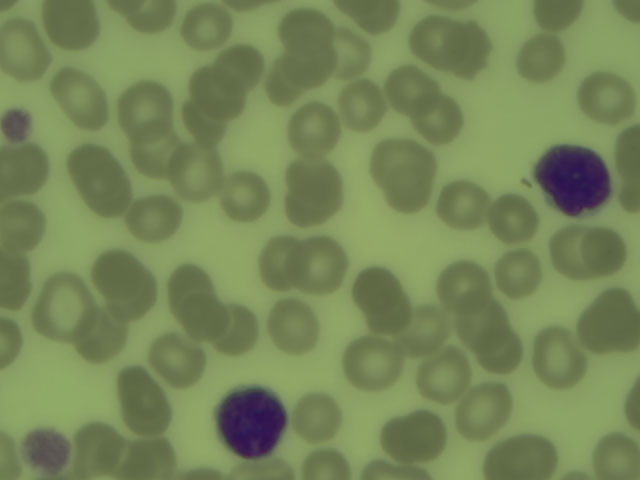Platelets: (1, 108, 39, 141)
RBC: (282, 102, 344, 162), (574, 294, 638, 351), (480, 435, 560, 480), (54, 70, 112, 132), (36, 274, 91, 339), (450, 297, 512, 351), (293, 237, 349, 294), (533, 330, 589, 386), (580, 71, 639, 124), (343, 339, 402, 392), (173, 143, 229, 198), (267, 301, 323, 356), (438, 178, 495, 232), (76, 306, 128, 363), (119, 80, 171, 134), (412, 93, 468, 143), (369, 145, 439, 185), (189, 67, 246, 116), (43, 1, 98, 51), (578, 224, 628, 279), (435, 260, 490, 310), (113, 363, 166, 414), (1, 19, 46, 78), (494, 248, 546, 299), (82, 164, 131, 218), (130, 122, 177, 178), (483, 195, 540, 241), (150, 337, 201, 388), (419, 352, 470, 403), (217, 172, 270, 220), (289, 391, 340, 440), (409, 15, 462, 62), (130, 195, 185, 240), (215, 300, 259, 356), (211, 45, 264, 91), (462, 385, 510, 434), (516, 37, 567, 83), (389, 68, 438, 115), (1, 146, 51, 192), (282, 162, 342, 200), (74, 421, 124, 466), (385, 172, 438, 214), (365, 292, 418, 334), (170, 266, 219, 311), (181, 99, 230, 144), (1, 204, 46, 251), (92, 250, 140, 294), (408, 407, 448, 459), (403, 309, 449, 354), (125, 437, 173, 480), (115, 267, 157, 316), (548, 229, 592, 275), (69, 148, 116, 191), (338, 86, 386, 128), (275, 194, 340, 225), (179, 300, 230, 339), (286, 45, 334, 86), (261, 237, 301, 286), (184, 5, 230, 47), (352, 269, 399, 309), (592, 438, 640, 477), (480, 330, 524, 372), (124, 398, 170, 438), (124, 1, 176, 36), (265, 59, 308, 101), (332, 32, 371, 78), (277, 15, 335, 45), (349, 2, 401, 35), (381, 416, 416, 464), (530, 1, 589, 29), (301, 449, 351, 480), (2, 253, 29, 307), (613, 126, 640, 178), (1, 320, 22, 372)
WBC: (533, 142, 614, 213), (217, 389, 290, 464), (11, 428, 81, 479)
